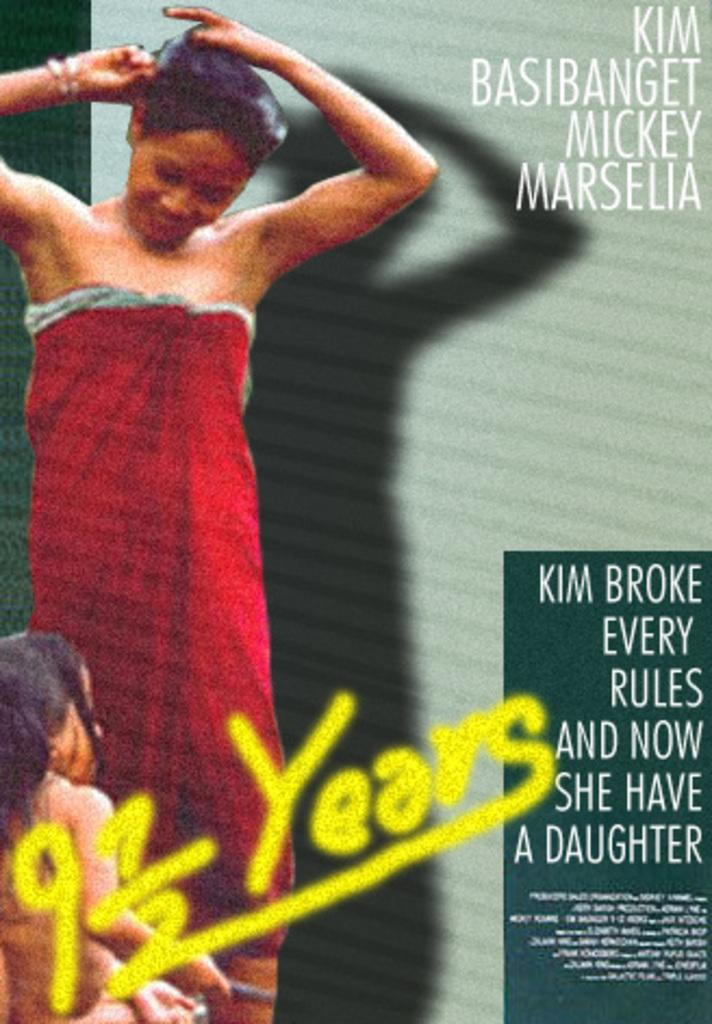Sem Máscara: (117, 120, 258, 250), (55, 654, 107, 782)
